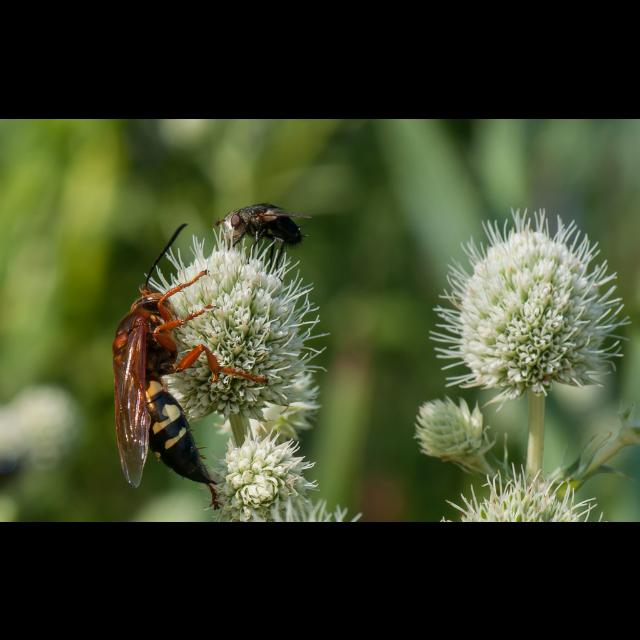Flower: (436, 194, 640, 426), (149, 222, 335, 440), (205, 432, 362, 520), (432, 457, 606, 521), (208, 358, 322, 454), (414, 391, 502, 479)
